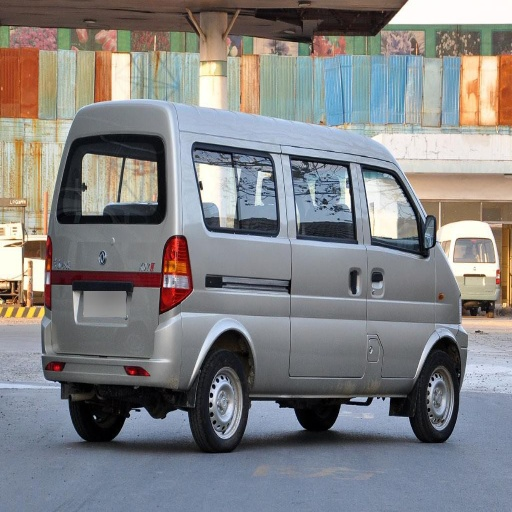back_bumper: (41, 308, 175, 384), (156, 305, 200, 350)
back_left_light: (24, 232, 52, 306)
back_right_door: (188, 138, 287, 266), (301, 157, 366, 307)
trunk: (50, 229, 456, 393)
